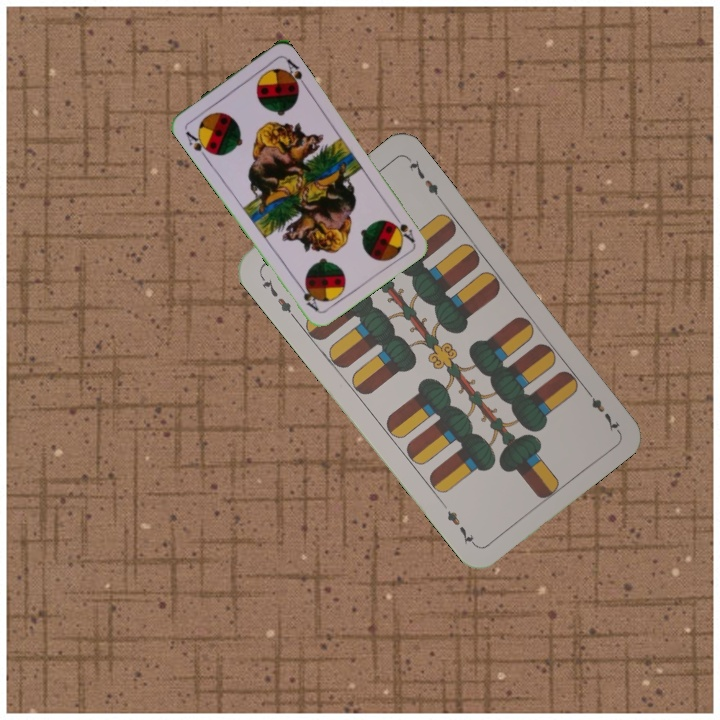E7: (580, 383, 622, 434), (256, 271, 298, 321)
SA: (181, 127, 215, 161), (389, 209, 417, 245)
